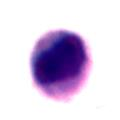lymphocyte: (25, 28, 98, 100)
